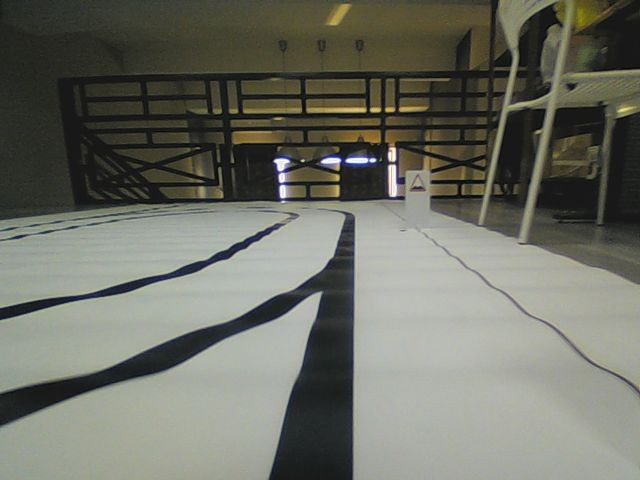Nerov: (408, 173, 427, 193)
